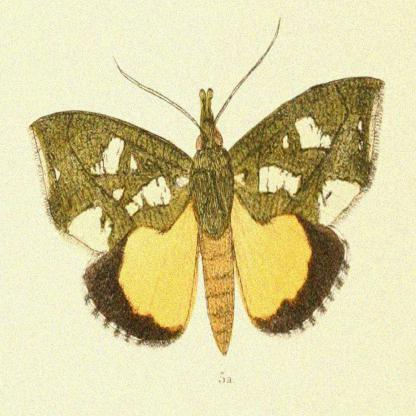fruit sucking moth: (25, 76, 385, 352)
